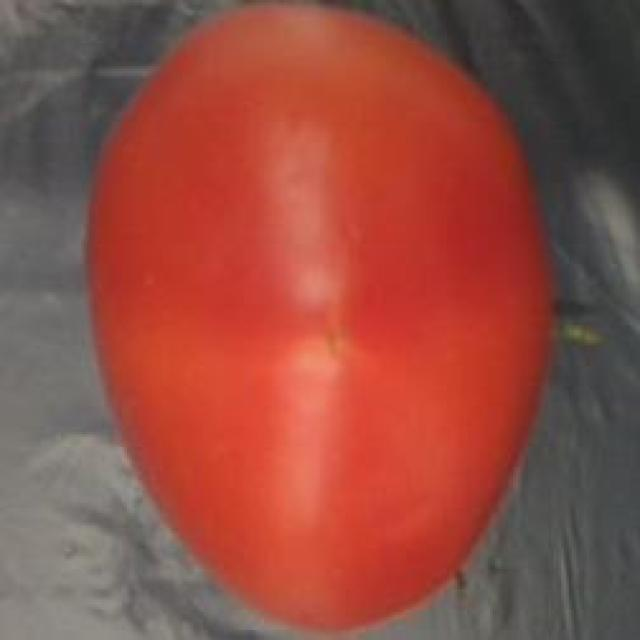ripe tomato: (66, 0, 561, 640)
